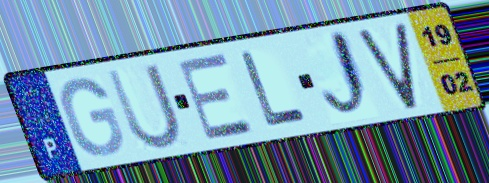E: (174, 51, 259, 144)
G: (58, 74, 126, 159)
J: (319, 26, 376, 125)
L: (237, 48, 311, 131)
U: (102, 60, 184, 153)
V: (355, 18, 421, 113)
